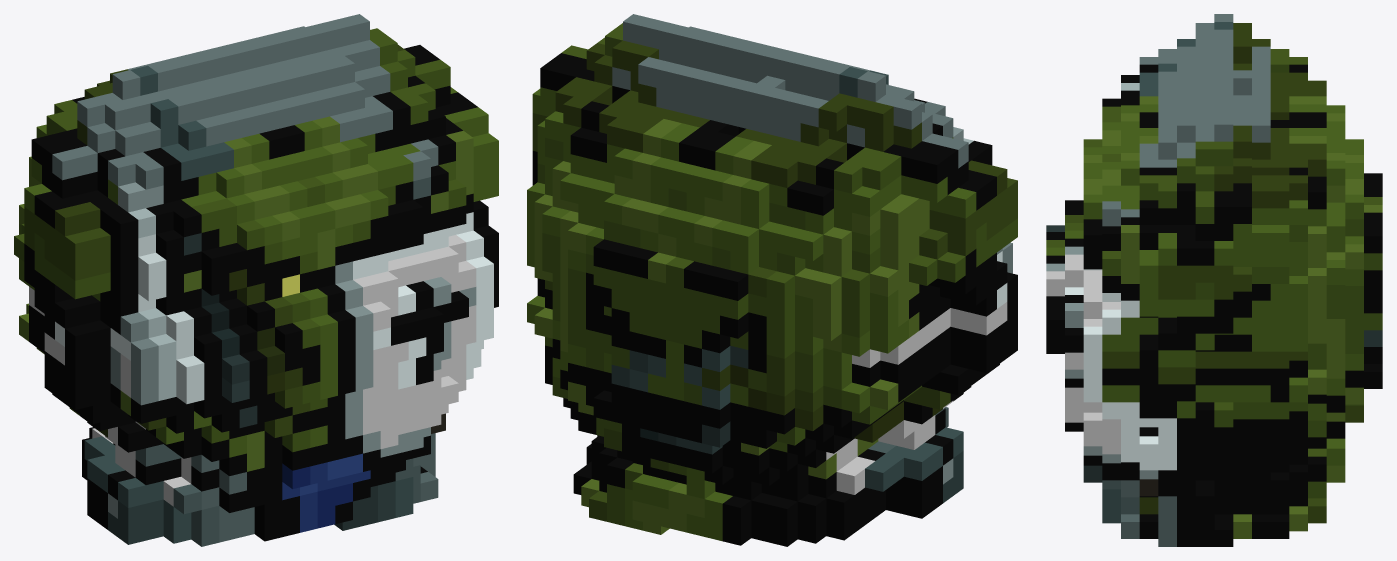
Rendered from Icon_022_01.obj.
3 views of the same model, side by side, from view 1: azimuth 30°, elevation 25°; view 2: azimuth 150°, elevation 25°; view 3: azimuth 270°, elevation 25° (orthographic). The views are drawn at different scales.
Bounding box in the file's own units: 2.4 × 2.4 × 1.8.
Materials: 1 (1 with a texture image).
